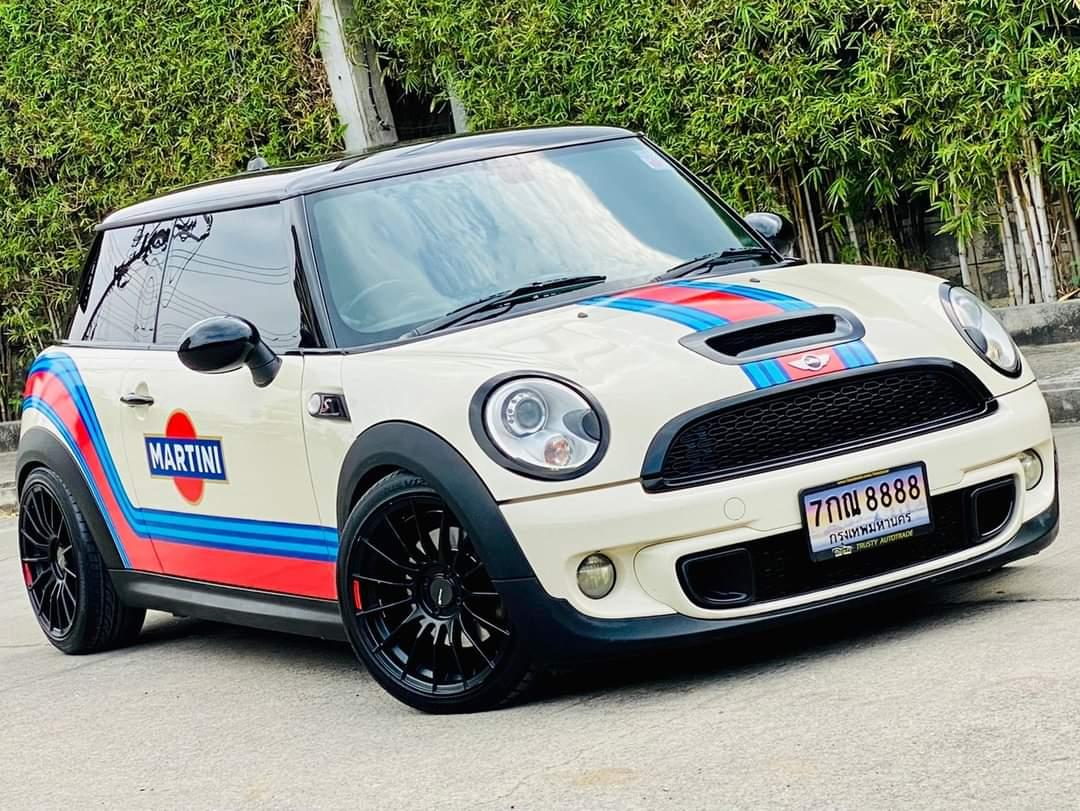license-plate: (798, 456, 933, 562)
